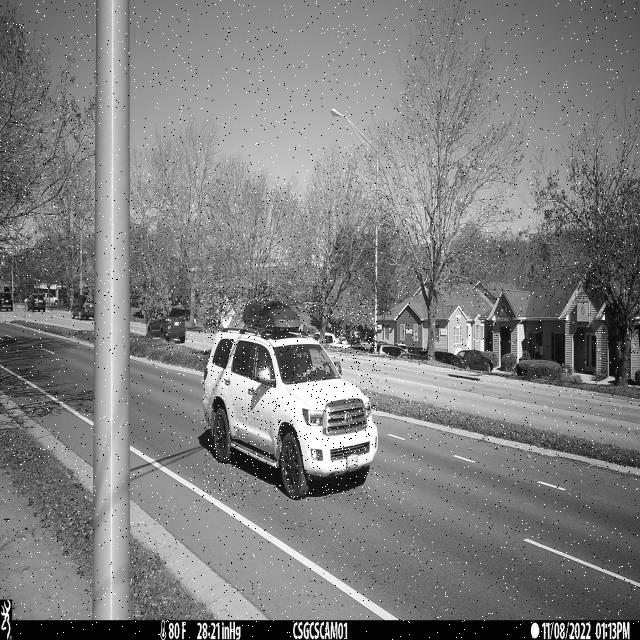SUV: (203, 300, 378, 501)
